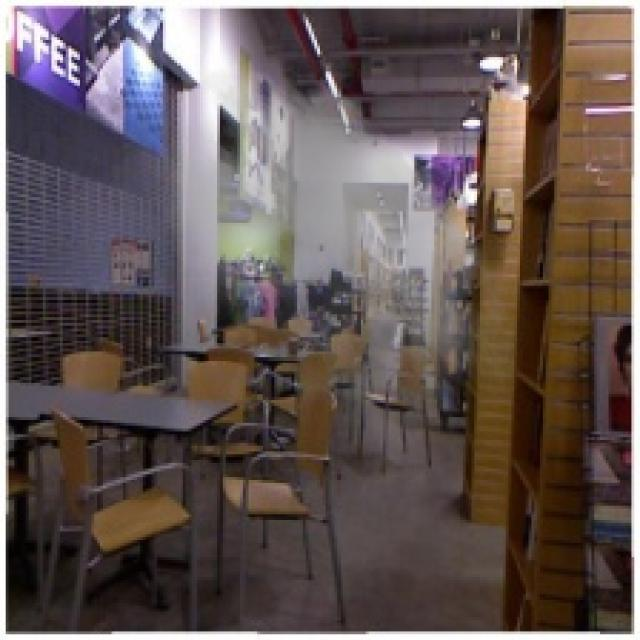Smoke: (143, 54, 526, 463)
